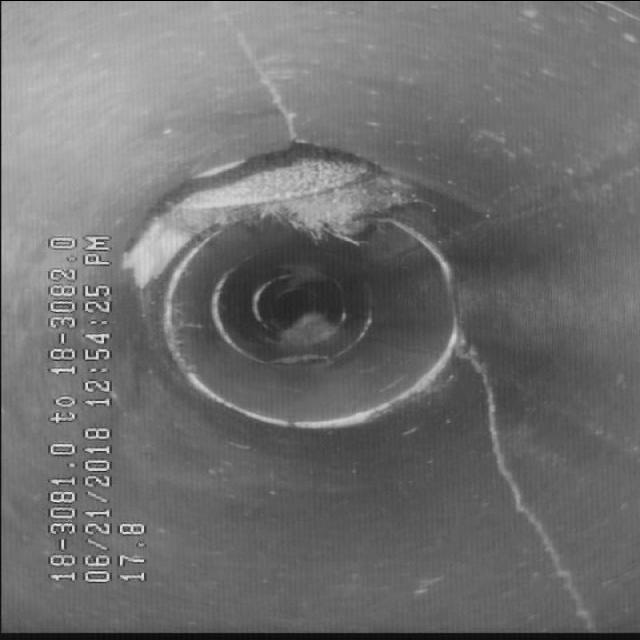Crack: (457, 354, 557, 584)
